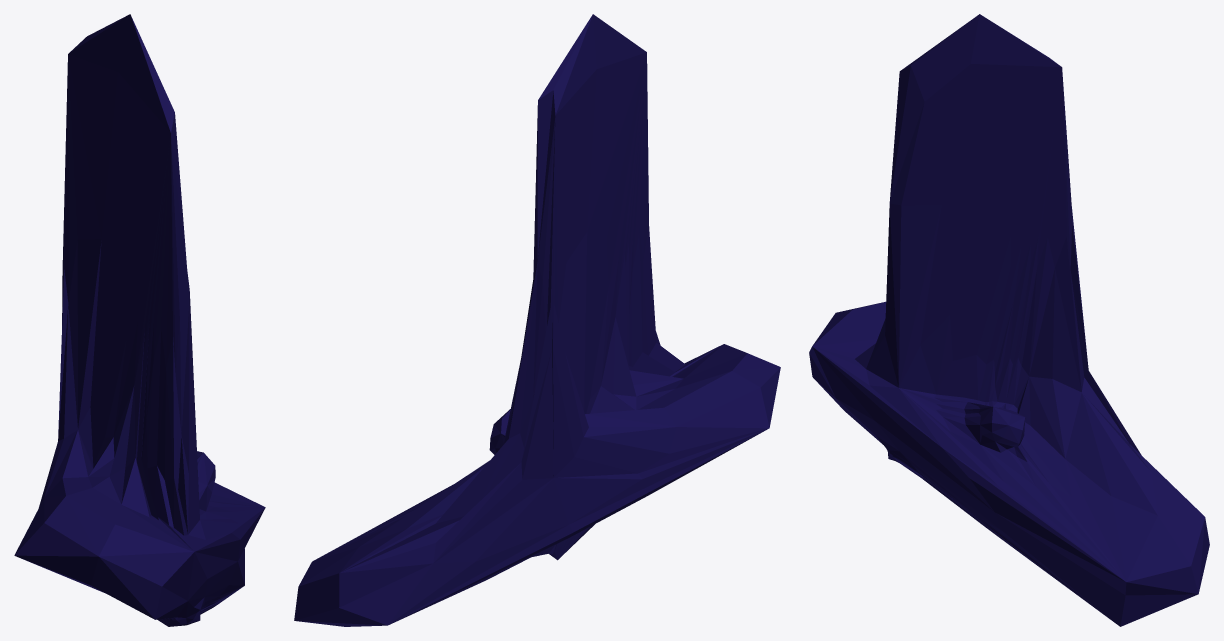
3 renders of one model, left to right at view 1: azimuth 30°, elevation 25°; view 2: azimuth 150°, elevation 25°; view 3: azimuth 270°, elevation 25°, orthographic. The views are drawn at different scales.
Visible parts, largest first — view 1: 653_Cube.2625; view 2: 653_Cube.2625; view 3: 653_Cube.2625.
Boxes of the visible parts, x1,y1,x2,y2 form: 653_Cube.2625: (14,14,265,626); 653_Cube.2625: (294,14,780,626); 653_Cube.2625: (809,14,1209,626).
Size of the model in its own units: 8.41 by 14.19 by 9.63.
